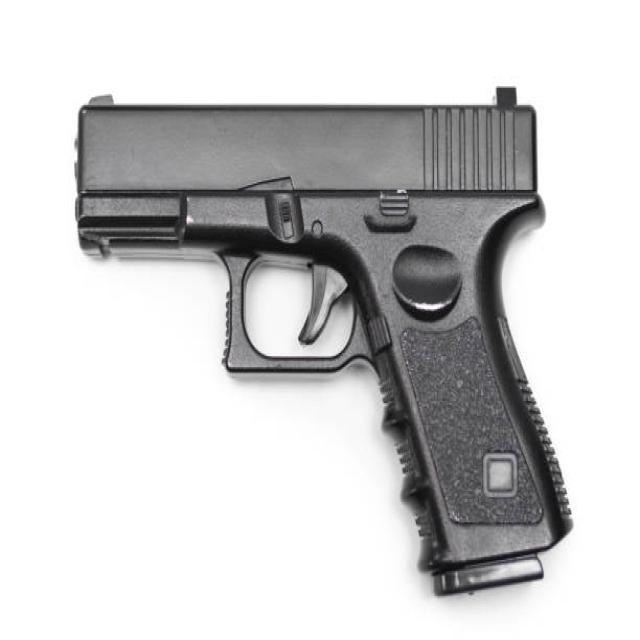pistol: (70, 72, 577, 605)
